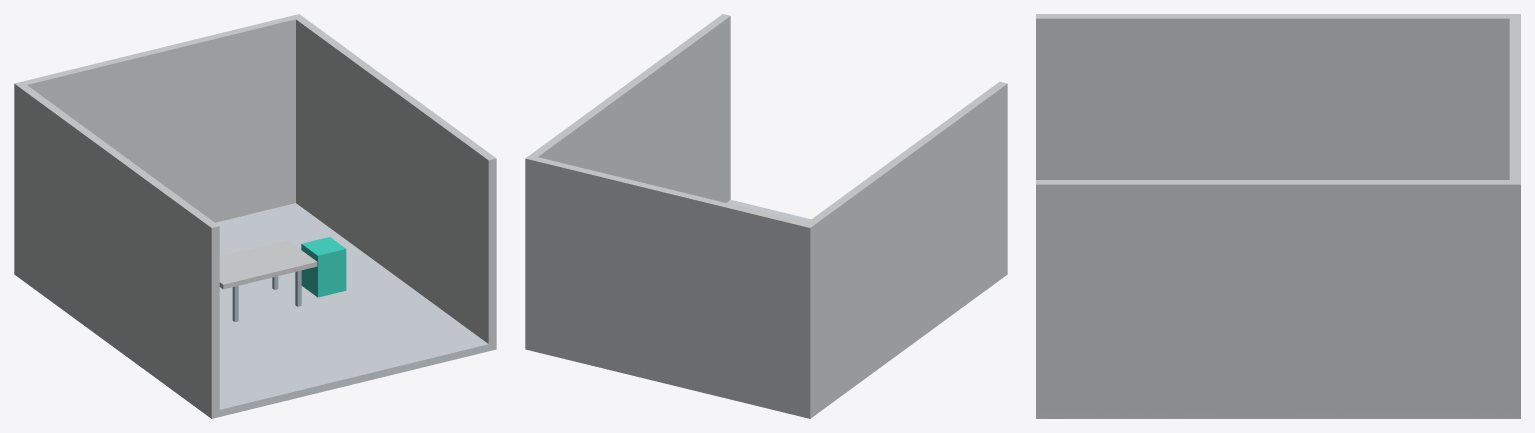
3 views of the same model, side by side, from view 1: azimuth 30°, elevation 25°; view 2: azimuth 150°, elevation 25°; view 3: azimuth 270°, elevation 25° (orthographic). The views are drawn at different scales.
Parts seen in each view (by area): view 1: Exhibition Booth Concept; view 2: Exhibition Booth Concept; view 3: Exhibition Booth Concept.
Boxes of the visible parts, x1,y1,x2,y2 form: Exhibition Booth Concept: (14,14,496,418); Exhibition Booth Concept: (525,14,1007,418); Exhibition Booth Concept: (1036,14,1520,418).
Bounding box in the file's own units: 5 × 3.2 × 6.
